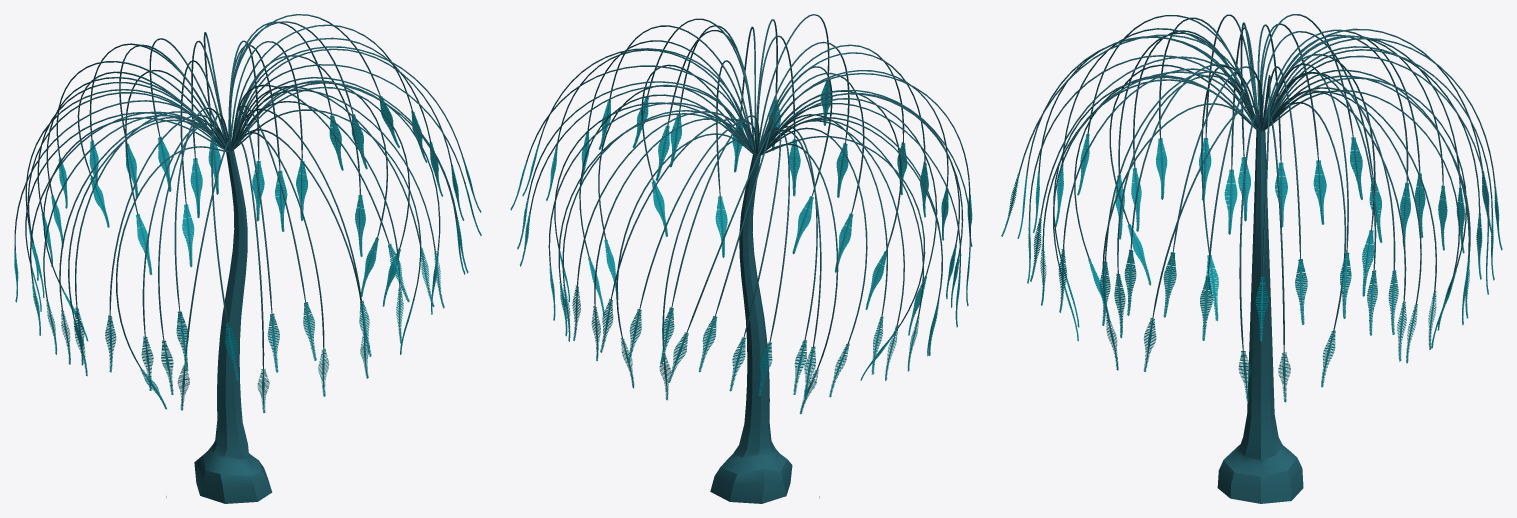
File: tree_elumi.fbx
3 renders of one model, left to right at view 1: azimuth 30°, elevation 25°; view 2: azimuth 150°, elevation 25°; view 3: azimuth 270°, elevation 25°, orthographic. The views are drawn at different scales.
Parts seen in each view (by area): view 1: tree; view 2: tree; view 3: tree.
Part boxes in pixels (x1,y1,x2,y2): tree: [14, 14, 481, 503]; tree: [510, 14, 972, 503]; tree: [1001, 14, 1502, 503].
Bounding box in the file's own units: 5586 × 5809 × 5829.
